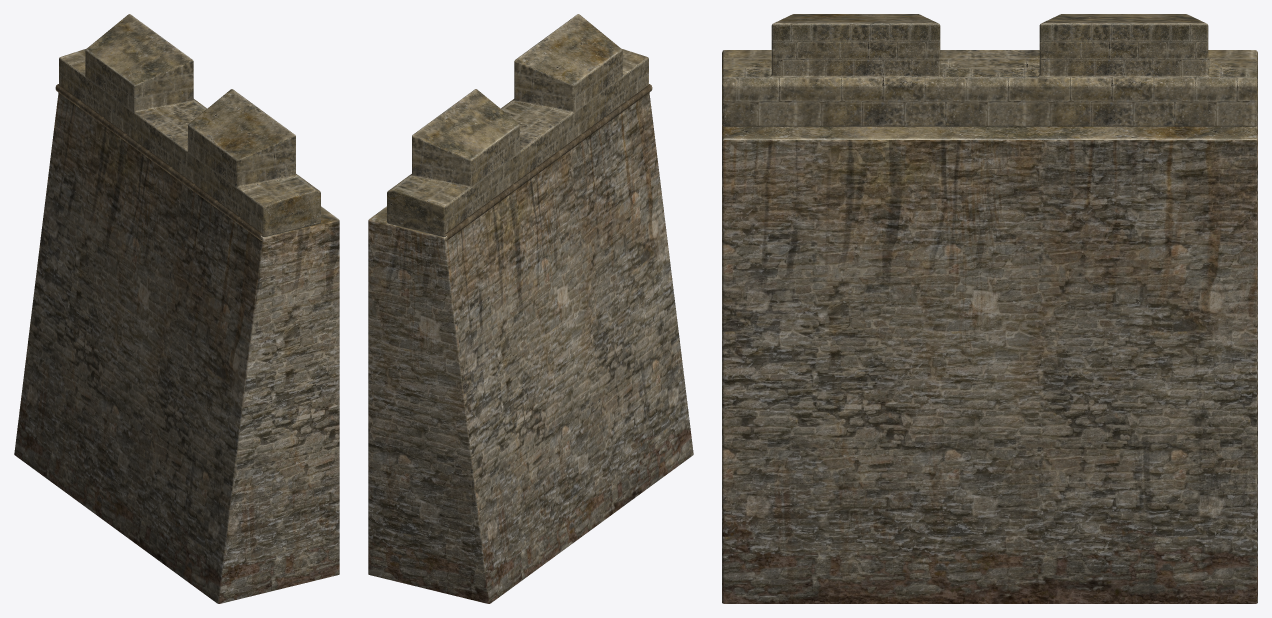
The model's file is parapet_short.gltf.
3 views of the same model, side by side, from view 1: azimuth 30°, elevation 25°; view 2: azimuth 150°, elevation 25°; view 3: azimuth 270°, elevation 25° (orthographic). The views are drawn at different scales.
Visible parts, largest first — view 1: modular_fort_01_wall_thin_straight_04; view 2: modular_fort_01_wall_thin_straight_04; view 3: modular_fort_01_wall_thin_straight_04.
Part boxes in pixels (x1=…): modular_fort_01_wall_thin_straight_04: x1=14, y1=14, x2=339, y2=603; modular_fort_01_wall_thin_straight_04: x1=368, y1=14, x2=693, y2=603; modular_fort_01_wall_thin_straight_04: x1=722, y1=14, x2=1257, y2=603.
Bounding box in the file's own units: 2.55 × 8.61 × 7.41.
2 materials, 2 textured.
